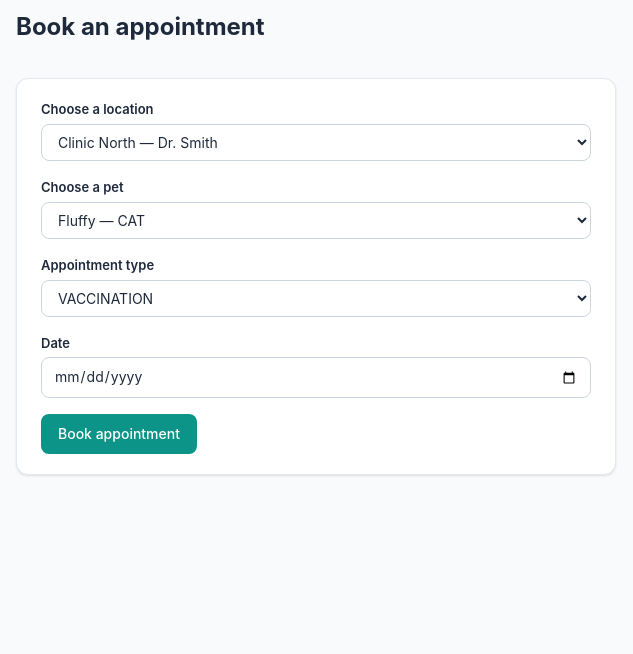
Test: AppointmentBookingPage › shows the empty-state message when no slots are available for the chosen day
Type "2099-12-31" into the date field.
click(316, 378); type("2099-12-31")  # box x1=41 y1=357 x2=591 y2=398
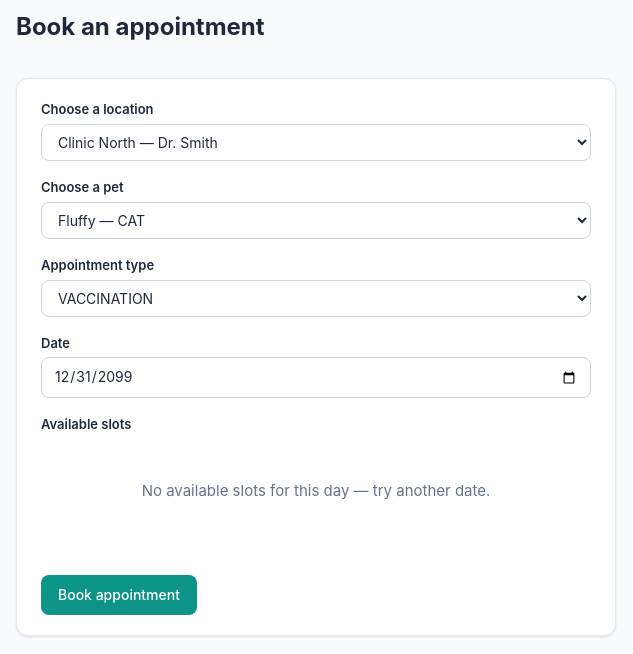
Now the text "No available slots for this day — try another date." is shown, box x1=142 y1=481 x2=490 y2=500
